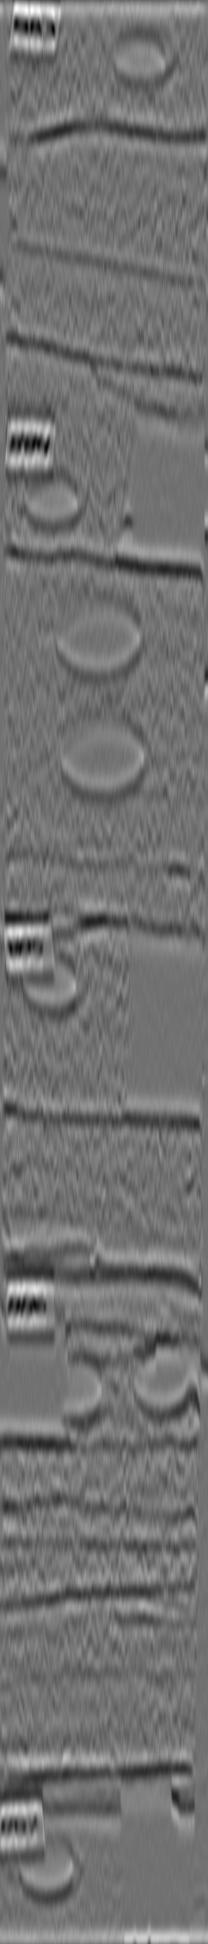hplug: (123, 1339, 197, 1427), (11, 1835, 89, 1913), (102, 24, 187, 93), (17, 947, 95, 1023), (17, 462, 97, 537), (73, 1355, 116, 1434)
scal: (50, 589, 149, 693), (57, 707, 155, 807)
vplug: (119, 909, 208, 1136), (115, 391, 207, 583), (113, 1775, 184, 1944), (1, 1306, 73, 1456)
